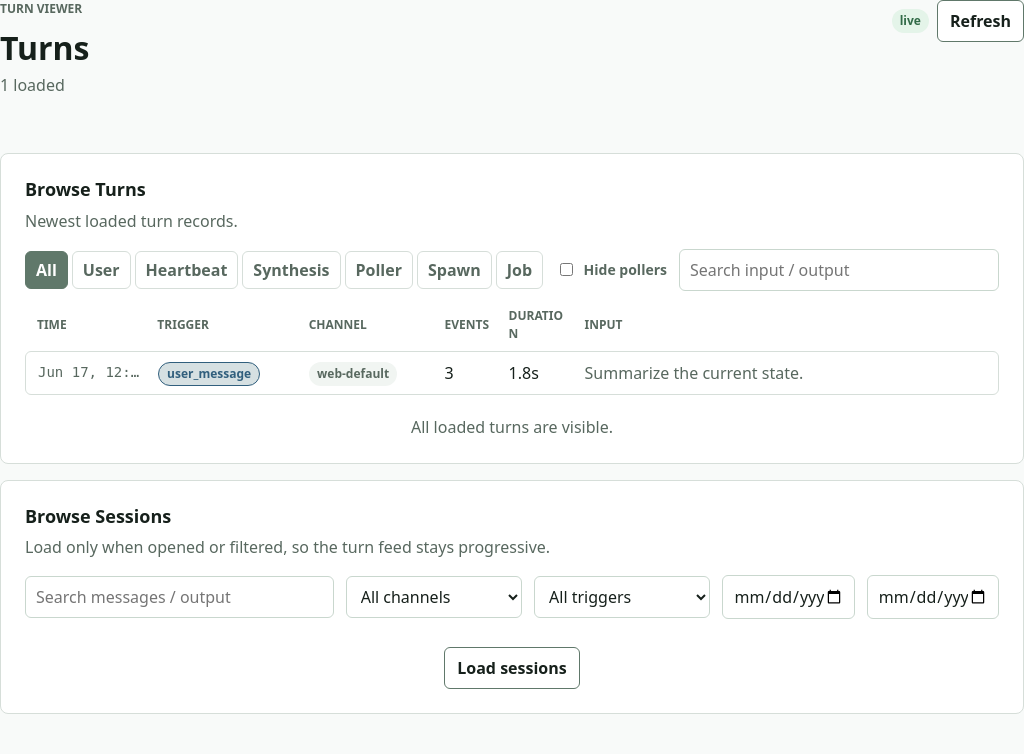
Test: TurnsRoute › preserves loaded rows on a degraded refresh and clears the warning on a healthy refresh
Check: the list named "Turns" is shown, box [25,351,999,395]
Click the button "Refresh" at {"x": 980, "y": 21}, box [937,0,1023,42]
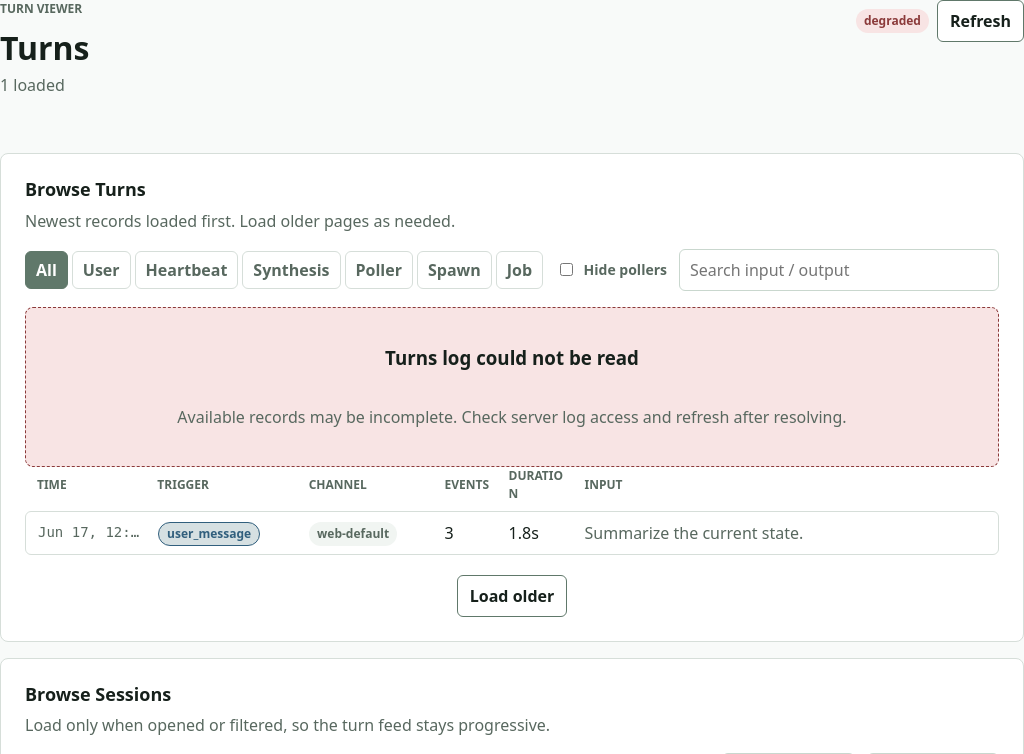
Check: the list named "Turns" is shown, box [25,511,999,555]
Check: the message shows "Turns log could not be read", box [385,345,639,370]
Click the button "Refresh" at {"x": 980, "y": 21}, box [937,0,1023,42]
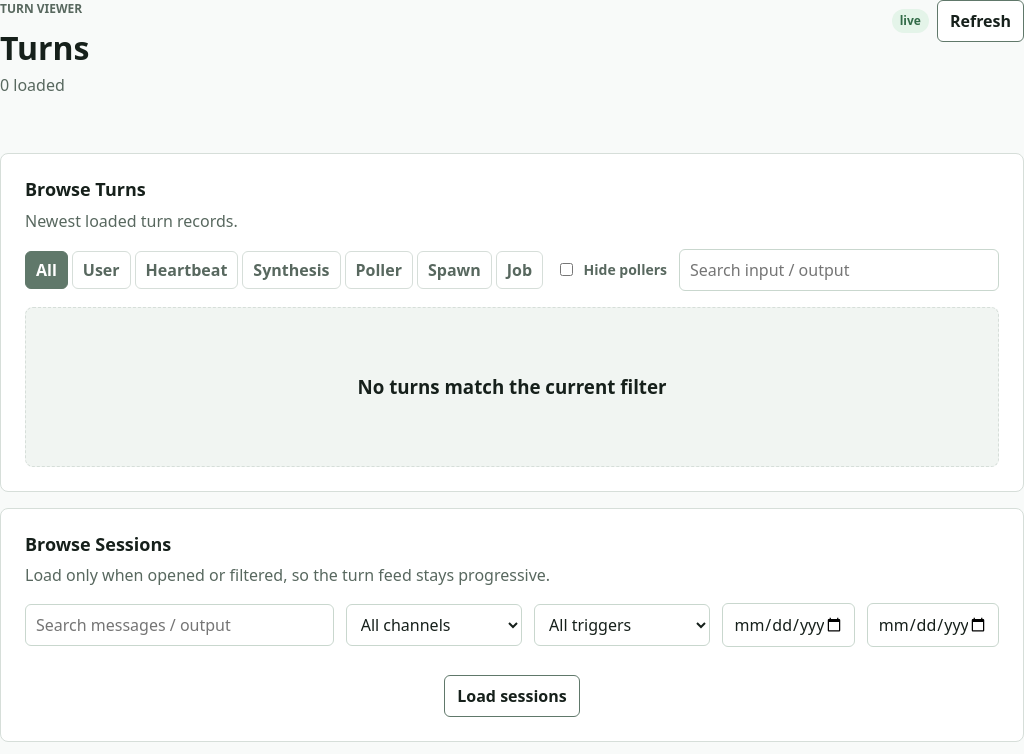
Check: the heading "No turns match the current filter" is shown, box [358,373,666,401]
Check: the message is gone
